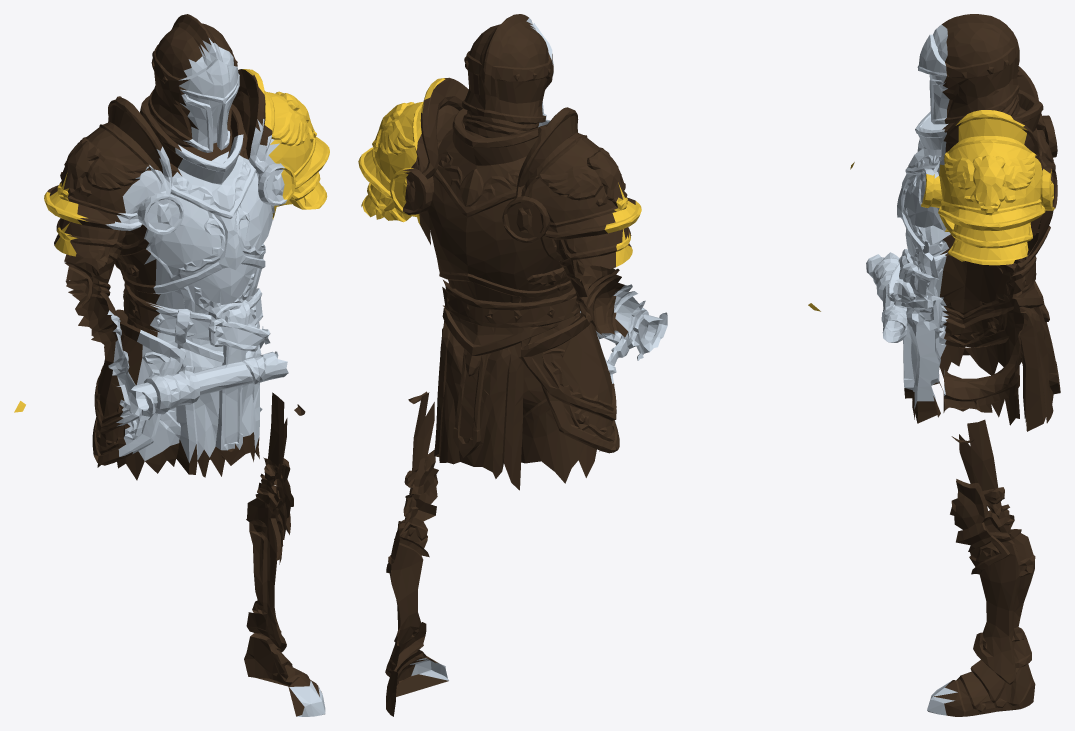
The model's file is knight_torso.obj.
3 views of the same model, side by side, from view 1: azimuth 30°, elevation 25°; view 2: azimuth 150°, elevation 25°; view 3: azimuth 270°, elevation 25° (orthographic). The views are drawn at different scales.
Visible parts, largest first — view 1: Knight_Torso; view 2: Knight_Torso; view 3: Knight_Torso.
Boxes of the visible parts, bbox=[...] form: Knight_Torso: bbox=[14, 14, 329, 716]; Knight_Torso: bbox=[358, 14, 820, 716]; Knight_Torso: bbox=[850, 14, 1060, 716].
Bounding box in the file's own units: 1.18 × 2.05 × 0.6006.
